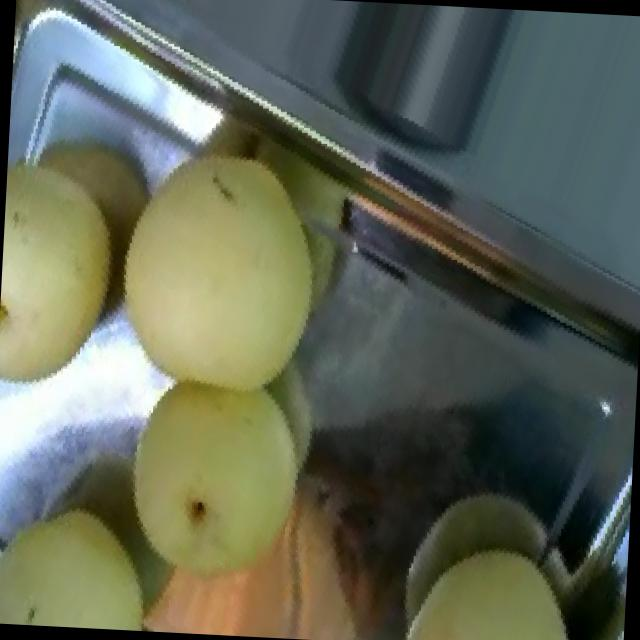Fruit: (86, 120, 380, 442), (87, 333, 380, 640), (0, 107, 166, 423), (0, 479, 185, 633), (379, 515, 581, 640)
